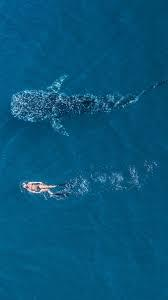Animal: (8, 72, 168, 140)
Person: (18, 176, 74, 198)
